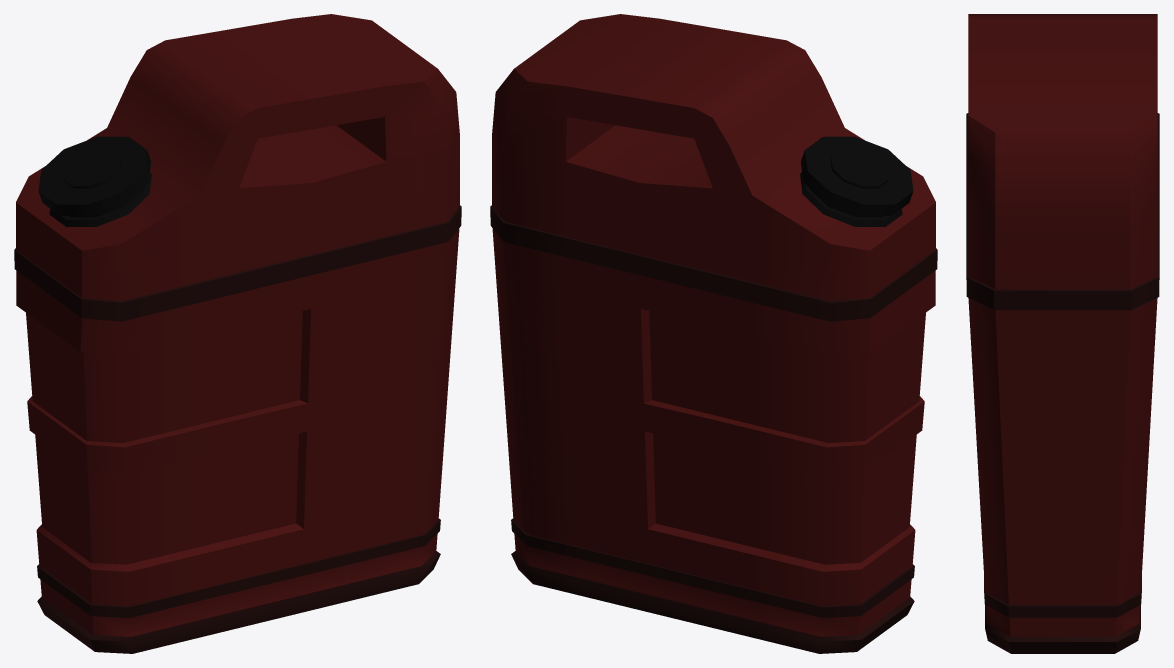
The model's file is GasCan.obj.
3 renders of one model, left to right at view 1: azimuth 30°, elevation 25°; view 2: azimuth 150°, elevation 25°; view 3: azimuth 270°, elevation 25°, orthographic. The views are drawn at different scales.
Visible parts, largest first — view 1: GasCan_Cube.018; view 2: GasCan_Cube.018; view 3: GasCan_Cube.018.
Boxes of the visible parts, bbox=[...] form: GasCan_Cube.018: bbox=[14, 14, 461, 653]; GasCan_Cube.018: bbox=[490, 14, 937, 653]; GasCan_Cube.018: bbox=[966, 14, 1159, 653].
Bounding box in the file's own units: 0.7966 × 1.05 × 0.3414.
